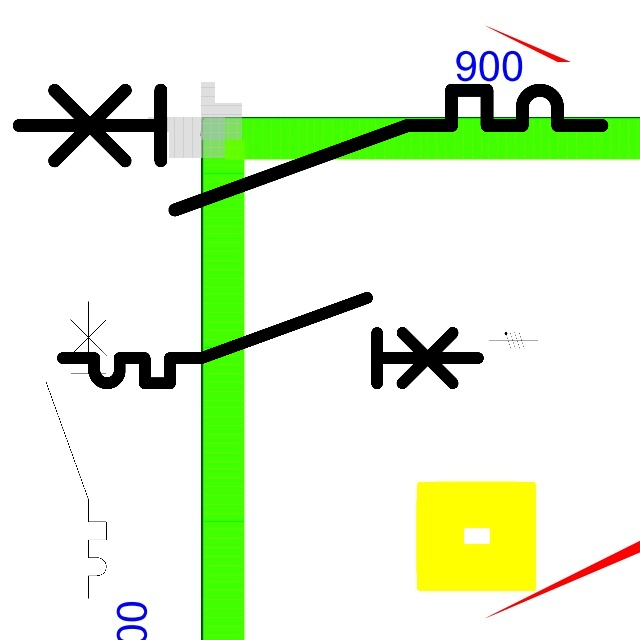interruptor_termomagnetico: (4, 75, 617, 225), (52, 287, 489, 394), (38, 294, 114, 606)
